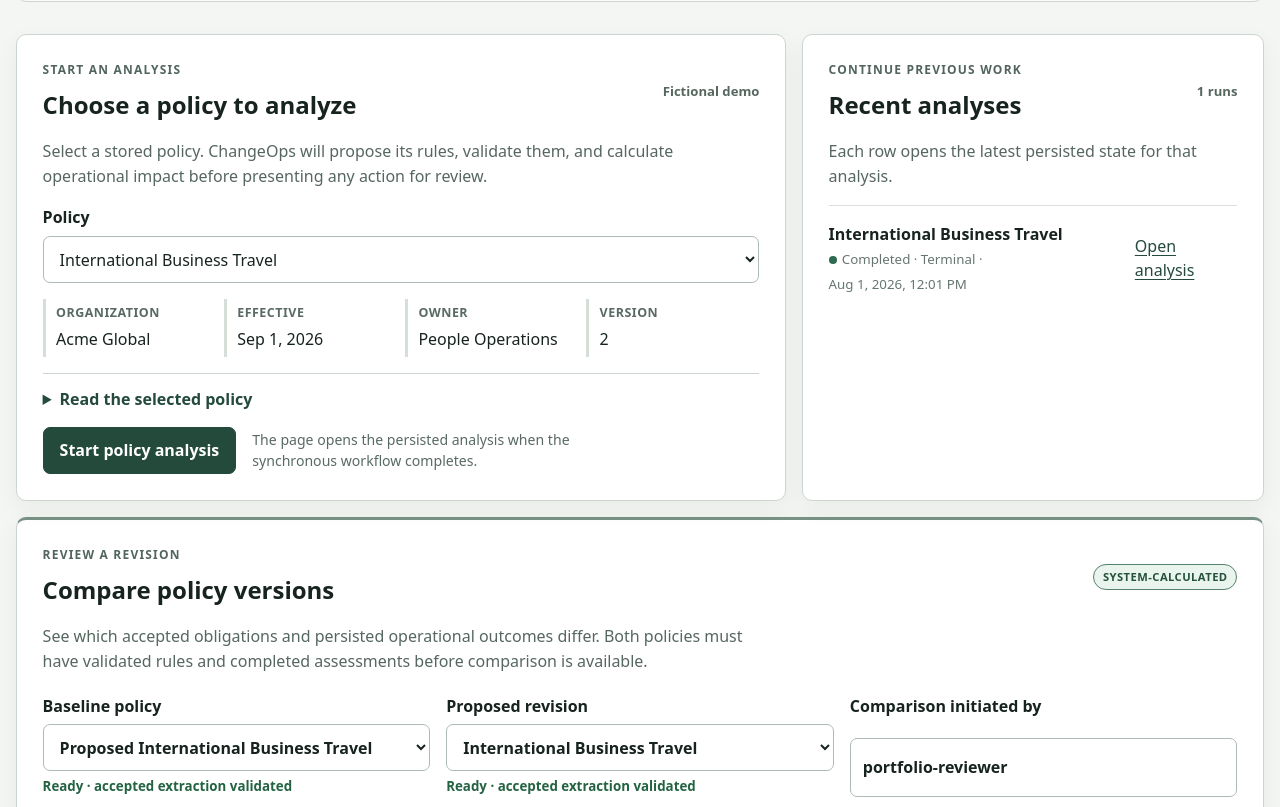
Test case: policy analysis entry › shows an explicit non-duplicating recovery state when reconciliation fails
(page scrolled)
Click the button "Start policy analysis".
click(139, 450)  # box [43,427,236,474]
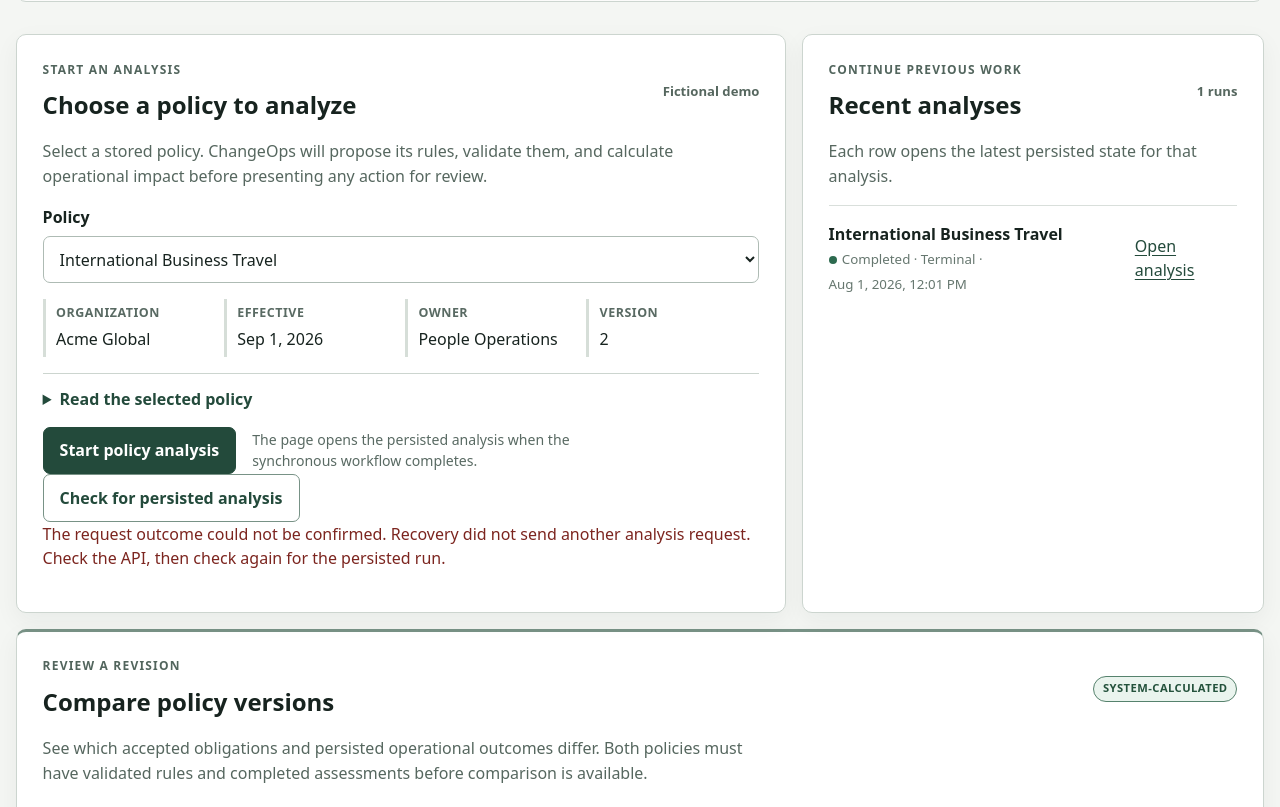
Check: the message shows "The request outcome could not be confirmed. Recovery did not send another analysis request.", box [43,523,750,569]
Check: the button "Check for persisted analysis" is shown, box [43,474,300,522]
